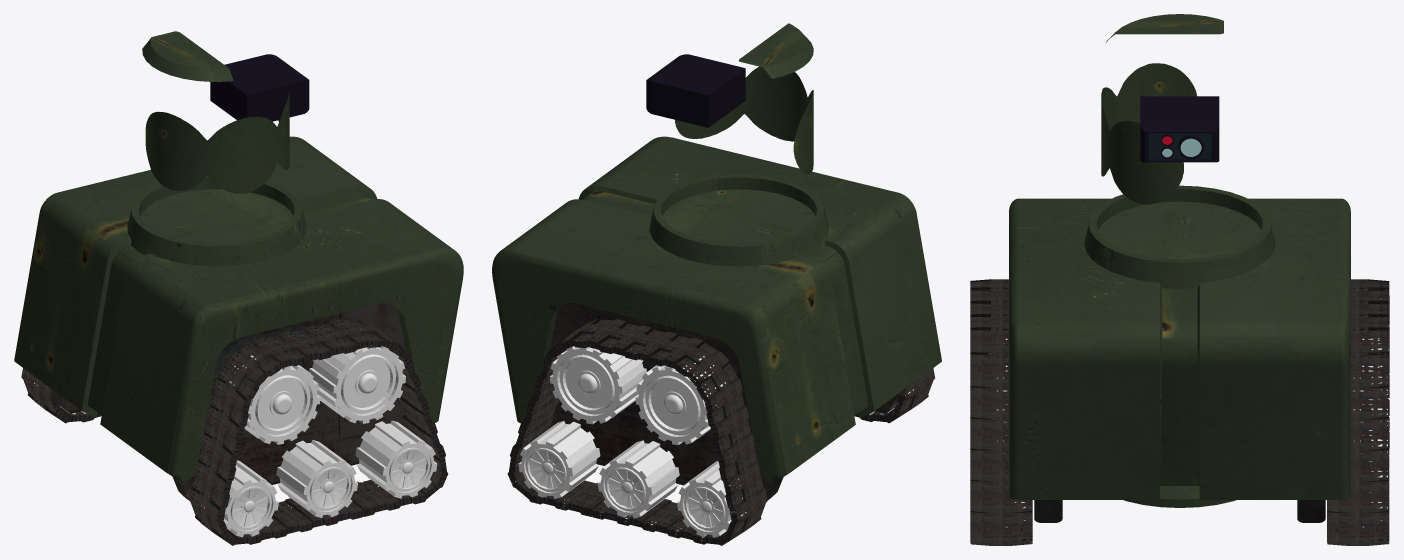
Rendered from robot_with_textures.fbx.
3 renders of one model, left to right at view 1: azimuth 30°, elevation 25°; view 2: azimuth 150°, elevation 25°; view 3: azimuth 270°, elevation 25°, orthographic. The views are drawn at different scales.
Parts seen in each view (by area): view 1: Цилиндр, RightPath, Head, Cylinder.003, Cylinder.002, LeftPath; view 2: Цилиндр, LeftPath, Head, Cylinder.003, Cylinder.002, RightPath; view 3: Цилиндр, Head, RightPath, LeftPath.
Boxes of the visible parts, x1=… form: Цилиндр: x1=14, y1=136, x2=463, y2=500; RightPath: x1=188, y1=318, x2=448, y2=545; Head: x1=142, y1=31, x2=309, y2=193; Cylinder.003: x1=34, y1=383, x2=437, y2=537; Cylinder.002: x1=229, y1=329, x2=405, y2=444; LeftPath: x1=21, y1=368, x2=101, y2=423; Цилиндр: x1=492, y1=136, x2=941, y2=499; LeftPath: x1=507, y1=318, x2=767, y2=545; Head: x1=646, y1=23, x2=813, y2=173; Cylinder.003: x1=518, y1=385, x2=919, y2=537; Cylinder.002: x1=549, y1=329, x2=725, y2=445; RightPath: x1=854, y1=368, x2=934, y2=423; Цилиндр: x1=1009, y1=185, x2=1350, y2=522; Head: x1=1101, y1=14, x2=1223, y2=204; RightPath: x1=970, y1=279, x2=1032, y2=545; LeftPath: x1=1327, y1=279, x2=1389, y2=545.
Size of the model in its own units: 377 by 507 by 433.
9 materials, 4 textured.
